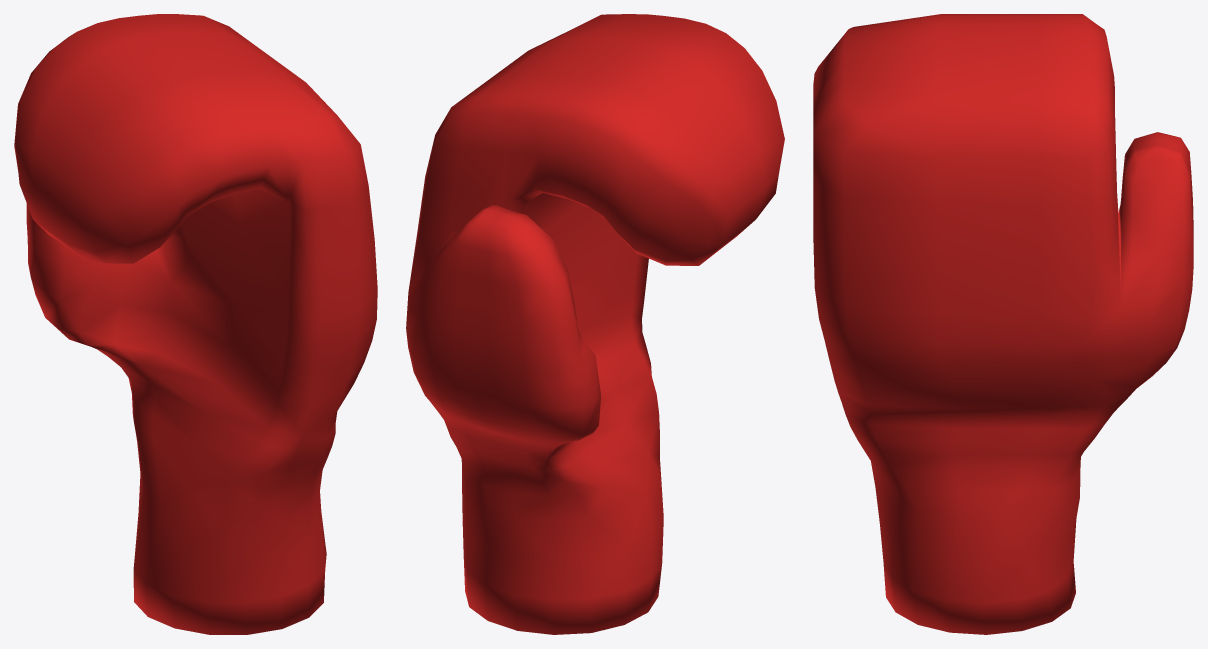
Rendered from bxglvsp(left).fbx.
3 renders of one model, left to right at view 1: azimuth 30°, elevation 25°; view 2: azimuth 150°, elevation 25°; view 3: azimuth 270°, elevation 25°, orthographic. The views are drawn at different scales.
Parts seen in each view (by area): view 1: Cube; view 2: Cube; view 3: Cube.
Part boxes in pixels (bbox=[...]): Cube: bbox=[14, 14, 377, 634]; Cube: bbox=[406, 14, 784, 634]; Cube: bbox=[813, 14, 1193, 634].
Size of the model in its own units: 436 by 818 by 527.
